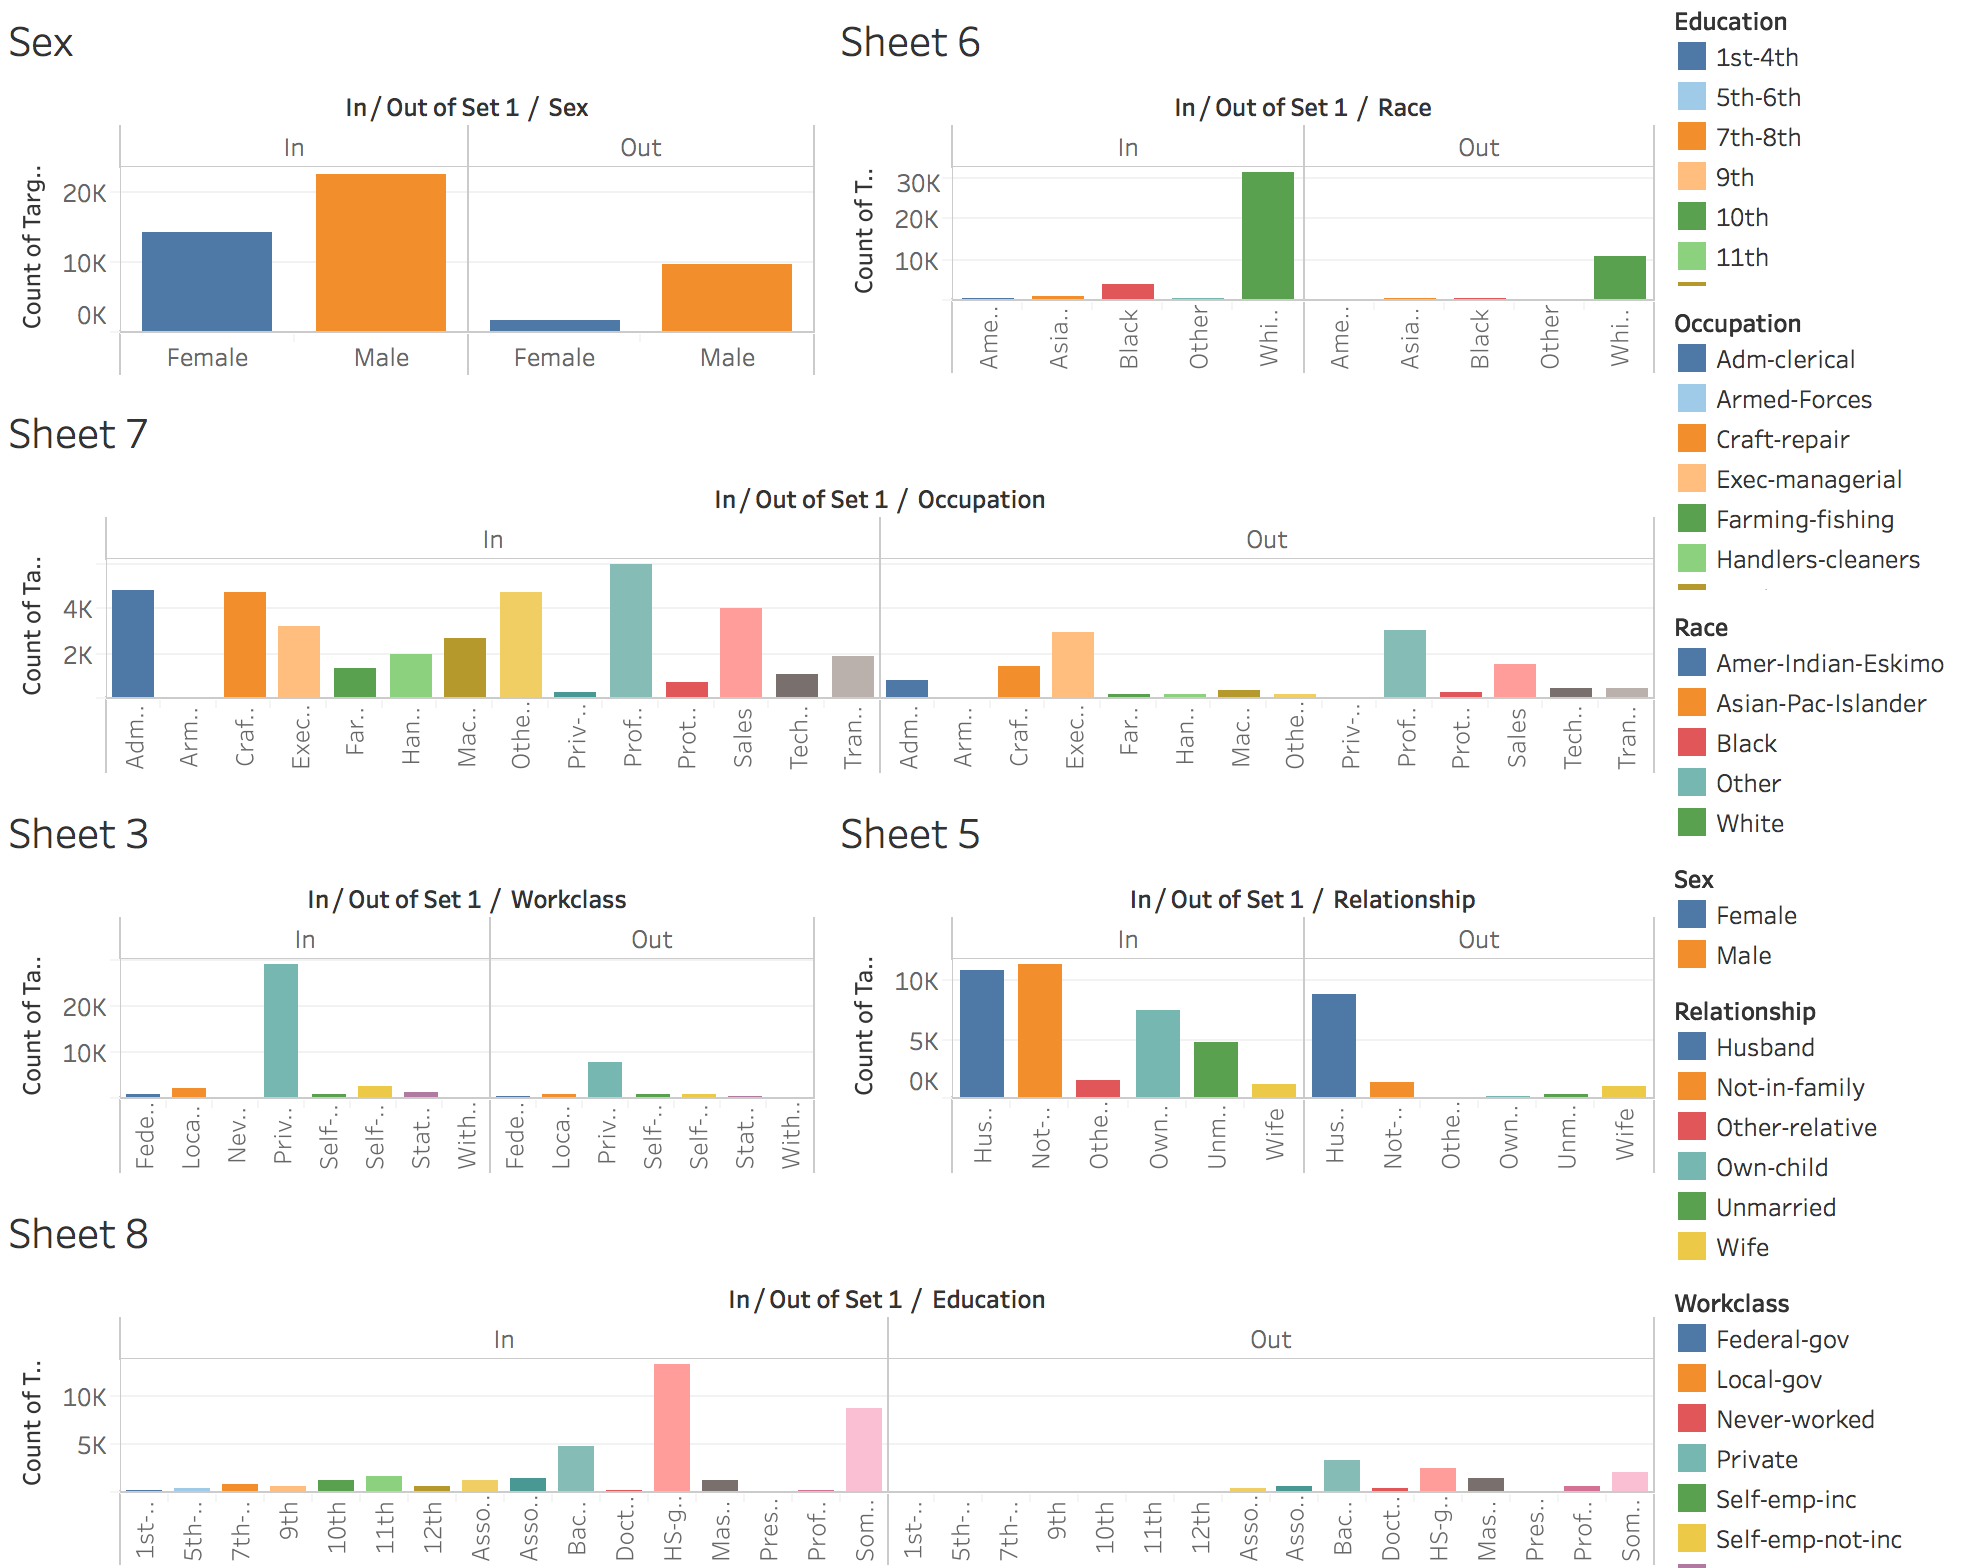

The page's visual inventory and layout, read from the dashboard file:
{"tool":"tableau","page":{"name":"Dashboard 2","canvas":[1000,800],"ordinal":0},"visuals":[{"type":"worksheet","title":"Sheet 4","mark":"Automatic","rows":["target"],"cols":["Set 1","sex"],"box":[0,0,420,200]},{"type":"worksheet","title":"Sheet 6","mark":"Automatic","rows":["target"],"cols":["Set 1","race"],"box":[420,0,420,200]},{"type":"legend","title":"Sheet 8","param":"[federated.1fxxl0y1fysf7w15zi5m10pkil5a].[none:education:nk]","box":[840,0,160,155.3]},{"type":"legend","title":"Sheet 7","param":"[federated.1fxxl0y1fysf7w15zi5m10pkil5a].[none:occupation:nk]","box":[840,155.3,160,151.3]},{"type":"worksheet","title":"Sheet 7","mark":"Automatic","rows":["target"],"cols":["Set 1","occupation"],"box":[0,200,840,200]},{"type":"legend","title":"Sheet 6","param":"[federated.1fxxl0y1fysf7w15zi5m10pkil5a].[none:race:nk]","box":[840,306.7,160,126]},{"type":"worksheet","title":"Sheet 3","mark":"Automatic","rows":["target"],"cols":["Set 1","workclass"],"box":[0,400,420,200]},{"type":"worksheet","title":"Sheet 5","mark":"Automatic","rows":["target"],"cols":["Set 1","relationship"],"box":[420,400,420,200]},{"type":"legend","title":"Sheet 4","param":"[federated.1fxxl0y1fysf7w15zi5m10pkil5a].[none:sex:nk]","box":[840,432.7,160,66]},{"type":"legend","title":"Sheet 5","param":"[federated.1fxxl0y1fysf7w15zi5m10pkil5a].[none:relationship:nk]","box":[840,498.7,160,146]},{"type":"worksheet","title":"Sheet 8","mark":"Automatic","rows":["target"],"cols":["Set 1","education"],"box":[0,600,840,200]},{"type":"legend","title":"Sheet 3","param":"[federated.1fxxl0y1fysf7w15zi5m10pkil5a].[none:workclass:nk]","box":[840,644.7,160,155.3]}]}

Visuals, with their boxes in screenshot pixels (x1, y1, x2, y2), scaled from the page's 1000x800 canvas onto the 1968x1568 screenshot:
"Sheet 4" worksheet: detection(0, 0, 827, 392)
"Sheet 6" worksheet: detection(827, 0, 1653, 392)
"Sheet 8" legend: detection(1653, 0, 1967, 304)
"Sheet 7" legend: detection(1653, 304, 1967, 601)
"Sheet 7" worksheet: detection(0, 392, 1653, 784)
"Sheet 6" legend: detection(1653, 601, 1967, 848)
"Sheet 3" worksheet: detection(0, 784, 827, 1176)
"Sheet 5" worksheet: detection(827, 784, 1653, 1176)
"Sheet 4" legend: detection(1653, 848, 1967, 977)
"Sheet 5" legend: detection(1653, 977, 1967, 1264)
"Sheet 8" worksheet: detection(0, 1176, 1653, 1567)
"Sheet 3" legend: detection(1653, 1264, 1967, 1567)
